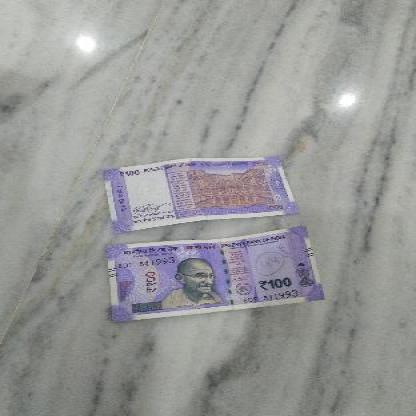New100Back: (88, 156, 313, 227)
New100Front: (100, 230, 323, 316)
